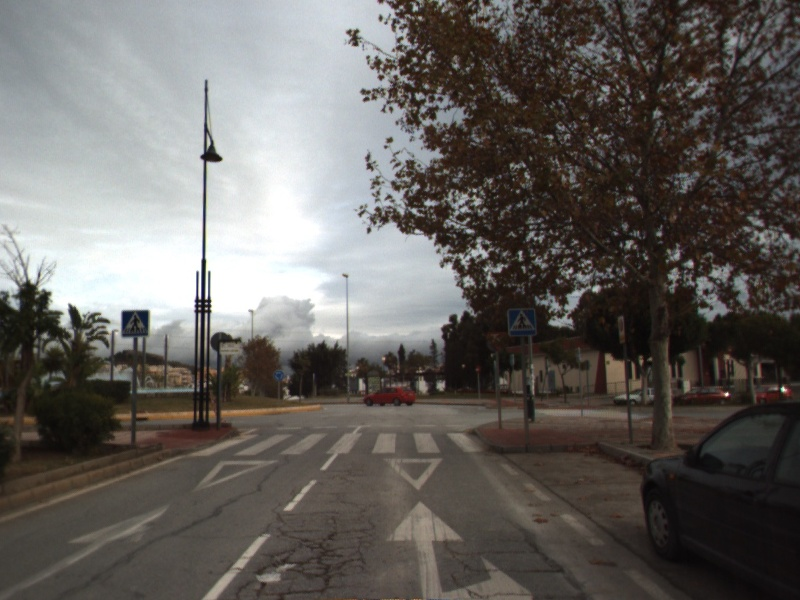STRAIGHT: (1, 499, 174, 600)
STRAIGHT_RIGHT: (382, 499, 537, 600)
